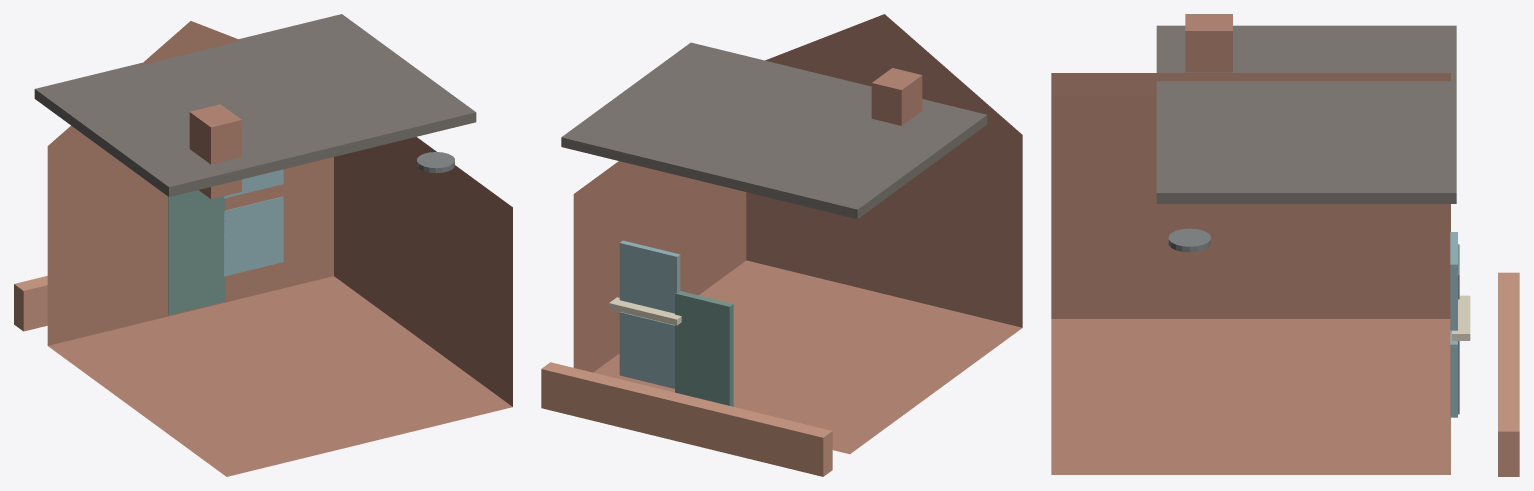
File: terrace_end.gltf
3 renders of one model, left to right at view 1: azimuth 30°, elevation 25°; view 2: azimuth 150°, elevation 25°; view 3: azimuth 270°, elevation 25°, orthographic. The views are drawn at different scales.
Parts seen in each view (by area): view 1: TerraceBody, RoofSlopeProxyA, FrontDoor, LowerWindow, Chimney, FrontWall, UpperWindow, SatelliteDish; view 2: TerraceBody, RoofSlopeProxyA, FrontWall, FrontDoor, UpperWindow, LowerWindow, Chimney, WindowSill; view 3: TerraceBody, RoofSlopeProxyA, FrontWall, Chimney, SatelliteDish, UpperWindow, WindowSill, LowerWindow.
Part boxes in pixels (box(x1,y1,x2,y2)): TerraceBody: box(47, 21, 512, 476); RoofSlopeProxyA: box(34, 14, 476, 196); FrontDoor: box(168, 190, 225, 315); LowerWindow: box(224, 196, 283, 276); Chimney: box(189, 104, 241, 198); FrontWall: box(14, 276, 47, 331); UpperWindow: box(224, 169, 283, 198); SatelliteDish: box(417, 152, 454, 173); TerraceBody: box(573, 14, 1022, 454); RoofSlopeProxyA: box(561, 42, 987, 219); FrontWall: box(541, 362, 832, 476); FrontDoor: box(675, 291, 733, 406); UpperWindow: box(619, 240, 680, 313); LowerWindow: box(619, 312, 674, 388); Chimney: box(871, 68, 922, 125); WindowSill: box(609, 297, 681, 325); TerraceBody: box(1051, 73, 1450, 474); RoofSlopeProxyA: box(1156, 25, 1456, 203); FrontWall: box(1498, 272, 1519, 476); Chimney: box(1185, 14, 1232, 72); SatelliteDish: box(1168, 228, 1210, 252); UpperWindow: box(1450, 232, 1457, 330); WindowSill: box(1452, 295, 1470, 340); LowerWindow: box(1450, 330, 1457, 417).
Size of the model in its own units: 5.15 by 4.73 by 6.09.
